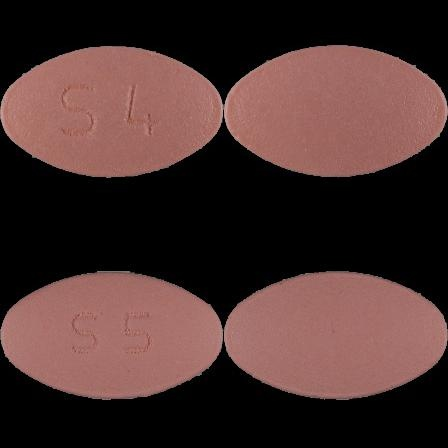63629-3392: (0, 0, 224, 224)
